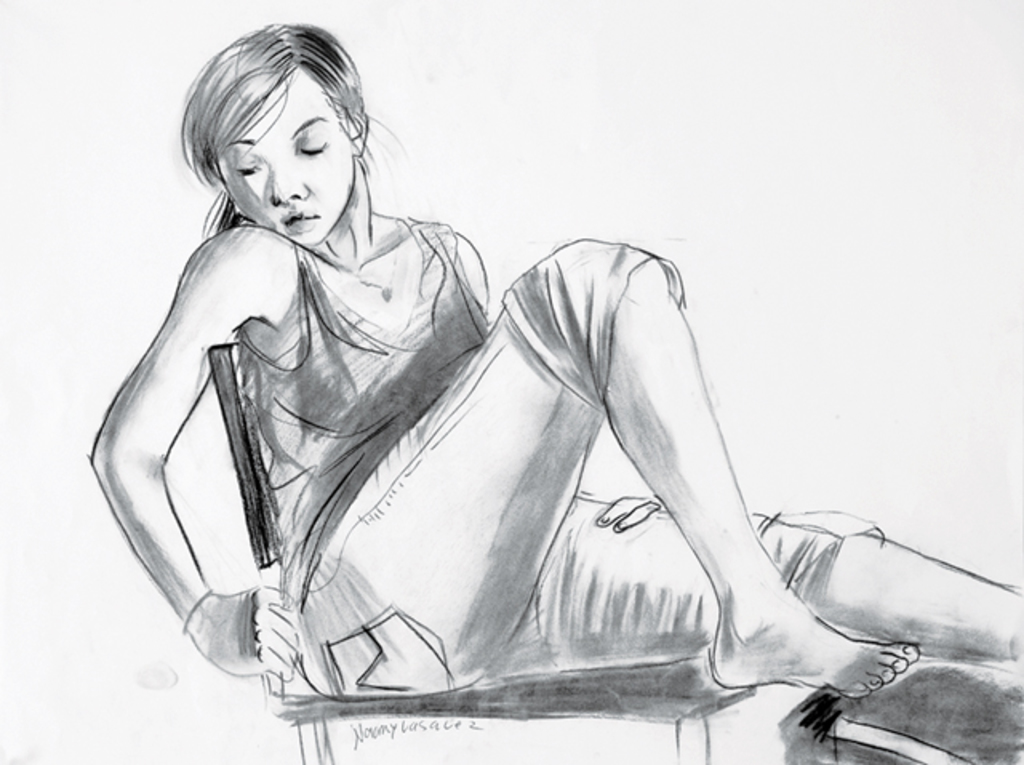Human_hand: (190, 578, 306, 682), (598, 493, 661, 531)
